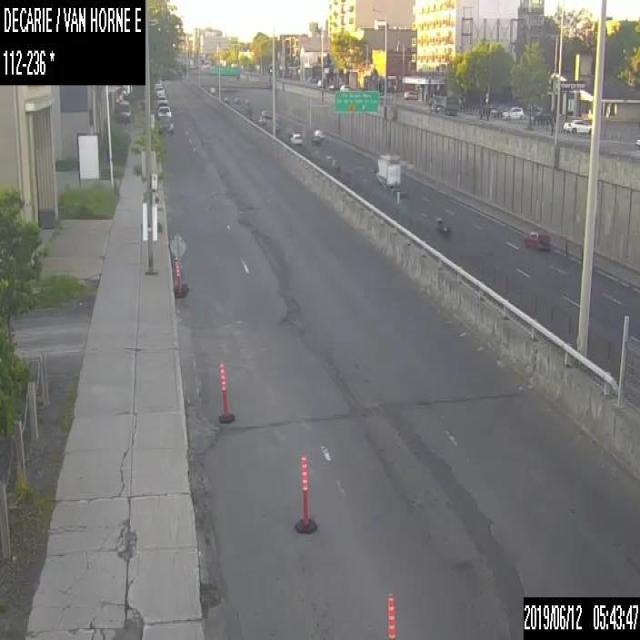construction: (293, 455, 317, 532), (217, 360, 234, 421), (384, 593, 396, 639), (172, 256, 185, 297)
vehicle: (374, 153, 401, 190), (429, 93, 457, 116), (525, 230, 551, 250), (562, 118, 591, 134), (114, 99, 130, 120), (435, 216, 451, 236), (500, 105, 522, 119), (156, 116, 173, 133), (403, 88, 417, 100), (156, 105, 170, 117), (290, 133, 302, 144), (313, 127, 324, 138), (156, 94, 167, 105), (330, 160, 340, 169), (339, 83, 349, 90), (312, 132, 319, 142), (156, 85, 163, 94), (635, 136, 639, 148), (233, 95, 239, 102), (222, 96, 228, 102)
